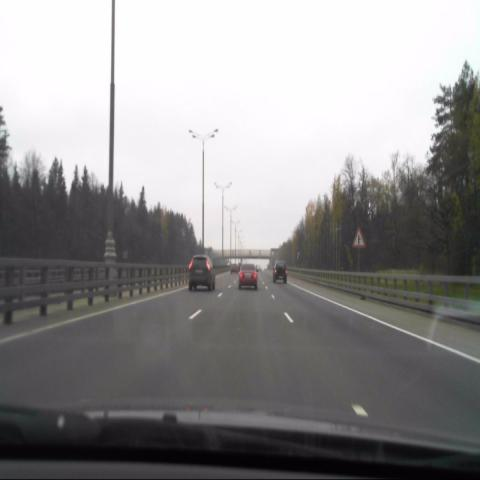2_3_2: (352, 227, 365, 248)
